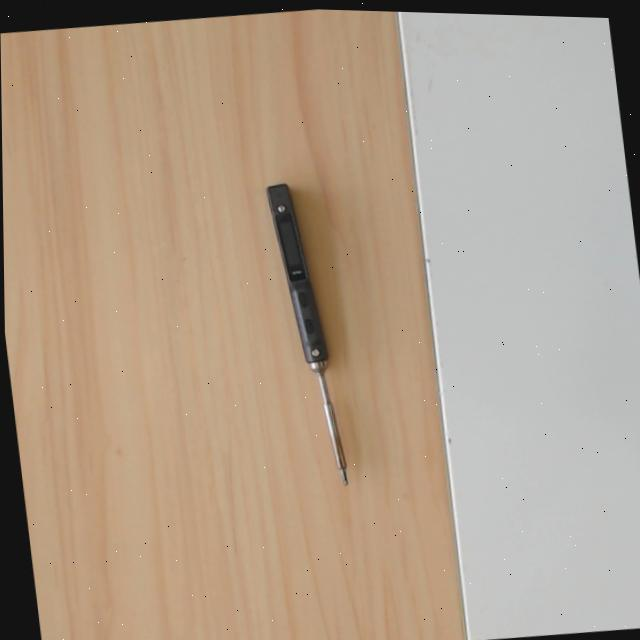Soldering-Iron: (263, 179, 360, 487)
